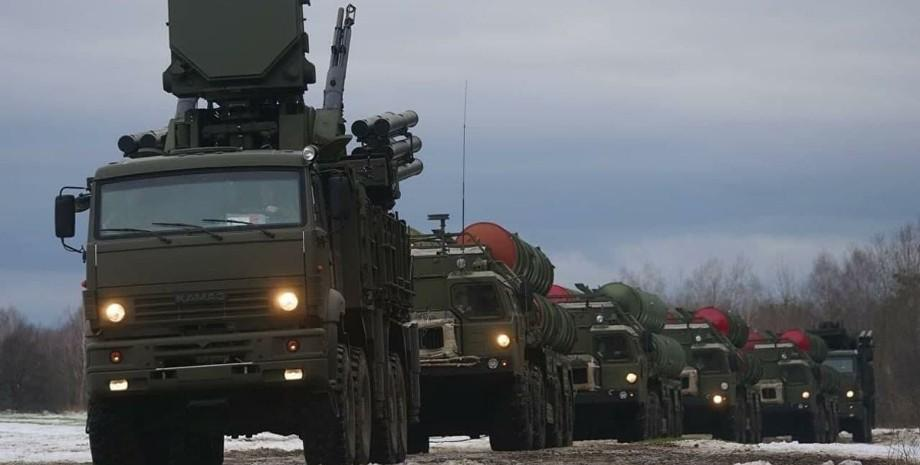rszo: (414, 219, 576, 453), (555, 277, 687, 446), (676, 301, 762, 445), (748, 334, 844, 448)
truck: (62, 2, 418, 462), (824, 336, 880, 444)
